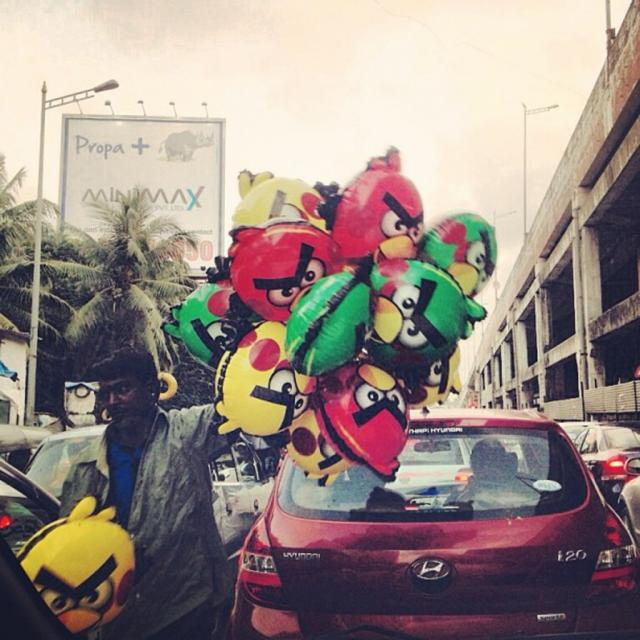other: (222, 406, 638, 638), (0, 445, 244, 639), (22, 418, 270, 585), (572, 424, 638, 504), (393, 428, 471, 490), (609, 451, 639, 535)
